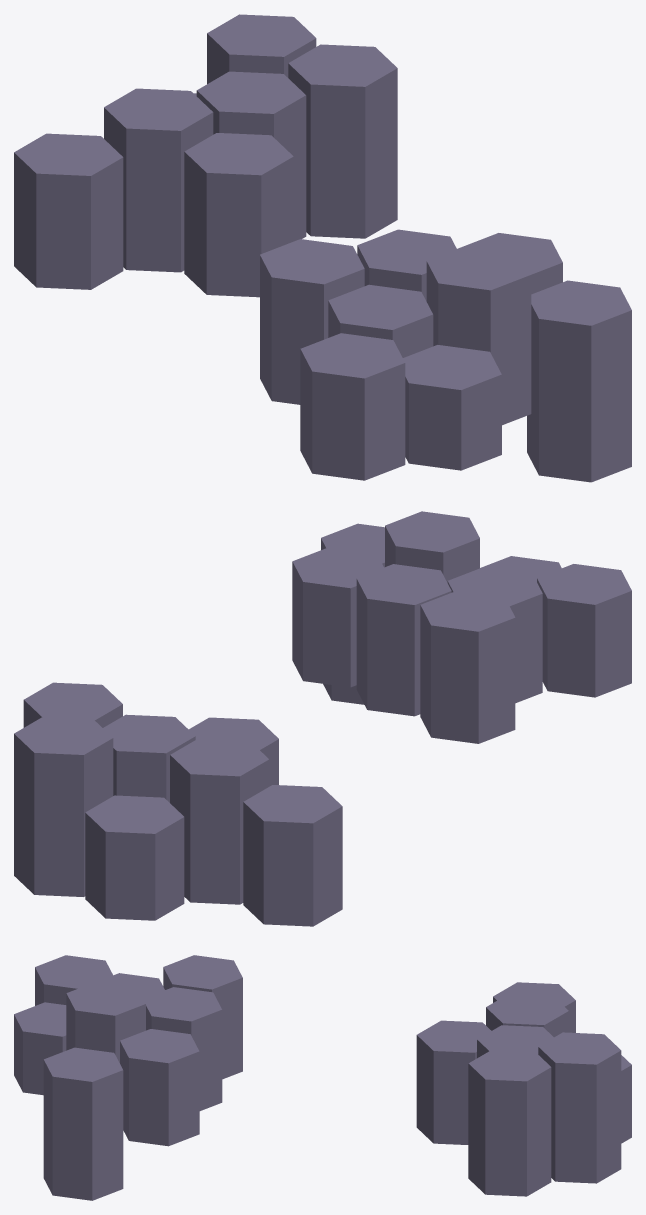
The model's file is 玄武岩_01.glb.
The picture shows the model from 3 angles, top to bottom: view 1: azimuth 30°, elevation 25°; view 2: azimuth 150°, elevation 25°; view 3: azimuth 270°, elevation 25°; orthographic projection. The views are drawn at different scales.
Parts seen in each view (by area): view 1: 玄武岩_01; view 2: 玄武岩_01; view 3: 玄武岩_01.
Part boxes in pixels (<box>): 玄武岩_01: <box>14,14,631,482</box>; 玄武岩_01: <box>14,511,631,926</box>; 玄武岩_01: <box>14,955,631,1200</box>.
Bounding box in the file's own units: 5.76 × 3.03 × 11.08.
